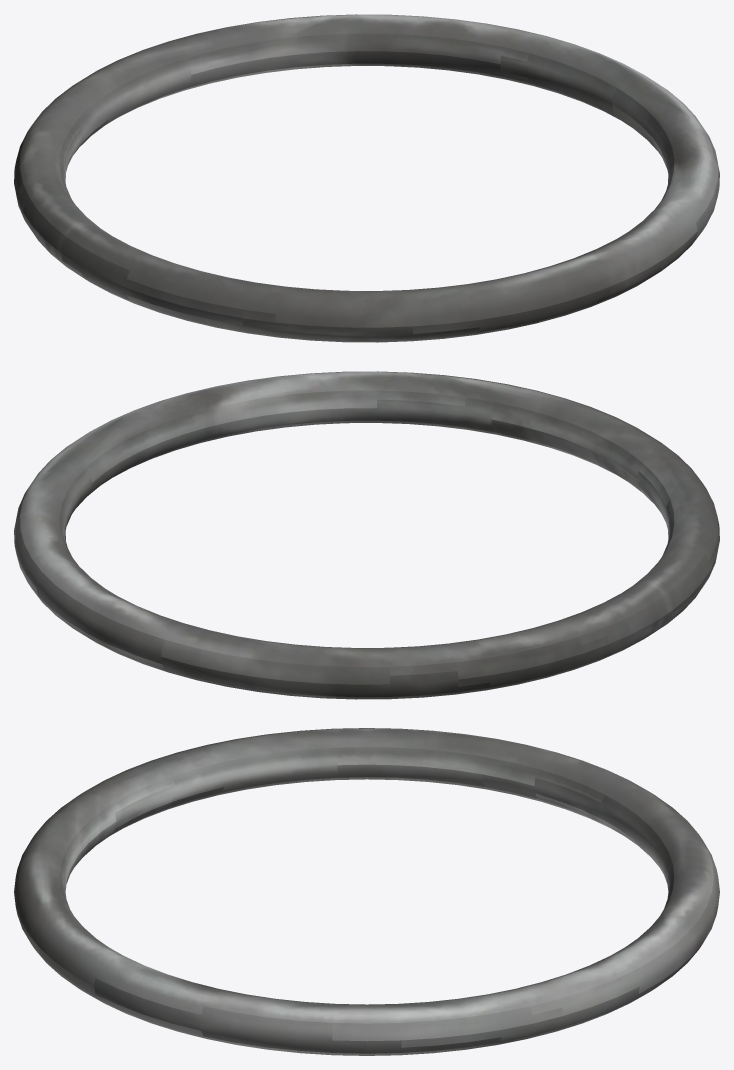
File: pump_body__gauge_bezel.glb
3 views of the same model, one above another, from view 1: azimuth 30°, elevation 25°; view 2: azimuth 150°, elevation 25°; view 3: azimuth 270°, elevation 25° (orthographic).
Visible parts, largest first — view 1: geometry_0; view 2: geometry_0; view 3: geometry_0.
Part boxes in pixels (box(x1,y1,x2,y2)): geometry_0: box(14, 14, 719, 342); geometry_0: box(14, 371, 719, 699); geometry_0: box(14, 728, 719, 1055).
Bounding box in the file's own units: 0.164 × 0.0118 × 0.164.
Materials: 1 (1 with a texture image).
